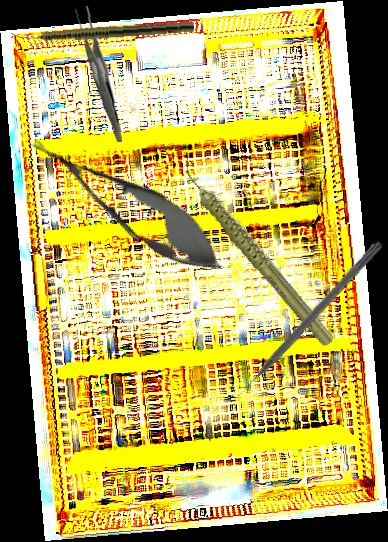Dressing Forceps: (70, 5, 127, 143)
Handpiece: (177, 134, 339, 370), (9, 18, 195, 46)
Micro Scissor: (17, 119, 238, 289)
Pusher: (228, 238, 385, 404)
